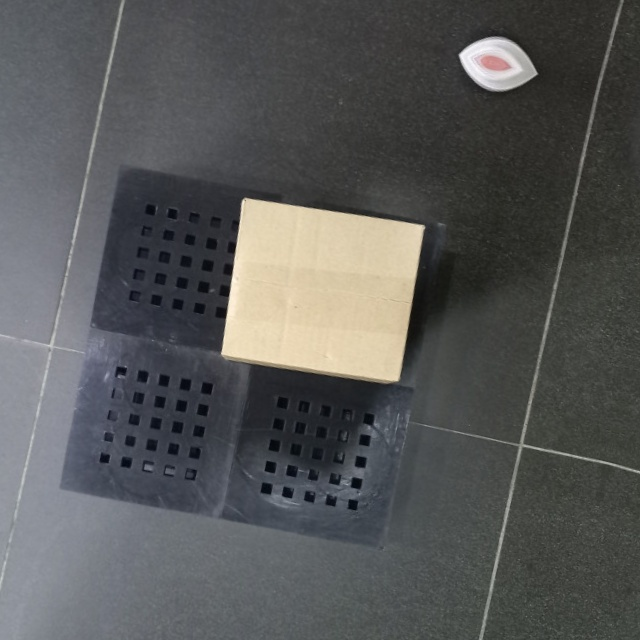box: (216, 190, 429, 391)
pallet: (53, 153, 441, 558)
